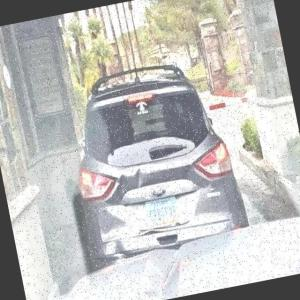Plate: (145, 196, 180, 229)
